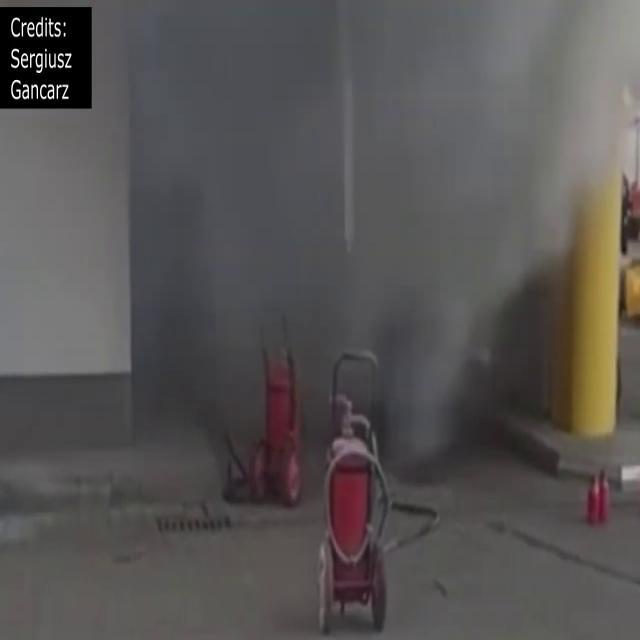Smoke: (103, 1, 636, 468)
